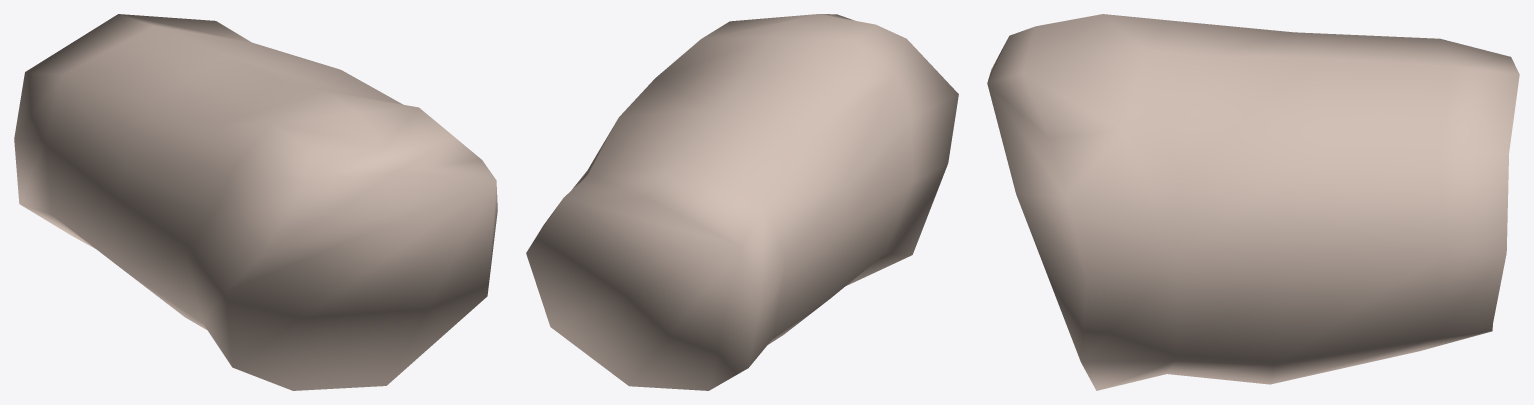
File: LIndex2ndPhalange.dae
3 renders of one model, left to right at view 1: azimuth 30°, elevation 25°; view 2: azimuth 150°, elevation 25°; view 3: azimuth 270°, elevation 25°, orthographic. The views are drawn at different scales.
Visible parts, largest first — view 1: ShapeIndexedFaceSet; view 2: ShapeIndexedFaceSet; view 3: ShapeIndexedFaceSet.
Boxes of the visible parts, box(x1,y1,x2,y2) form: ShapeIndexedFaceSet: box(14, 14, 497, 390); ShapeIndexedFaceSet: box(526, 14, 958, 390); ShapeIndexedFaceSet: box(987, 14, 1519, 390).
Bounding box in the file's own units: 0.0199 × 0.0281 × 0.0185.
